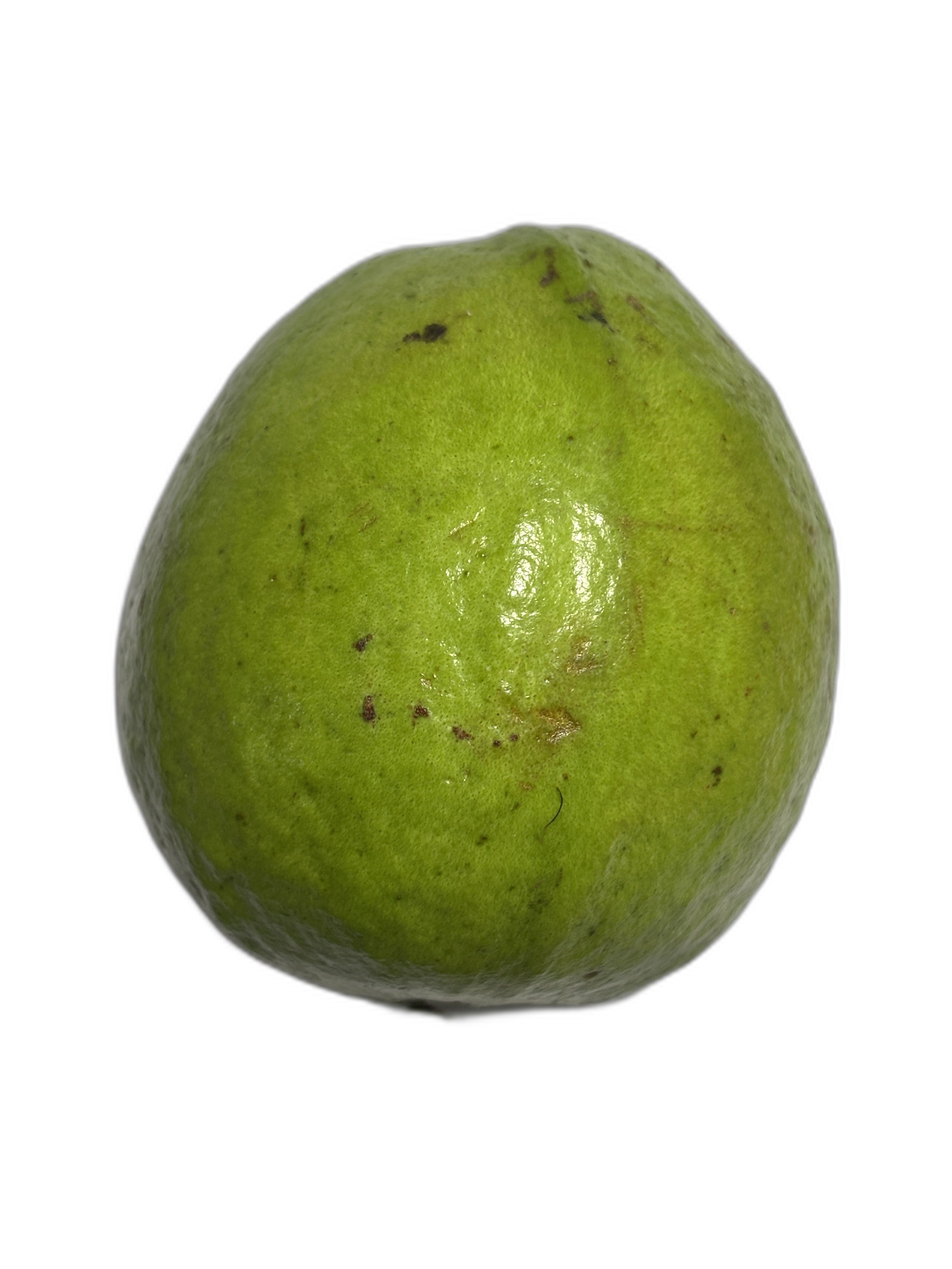guava: (129, 30, 812, 1017)
